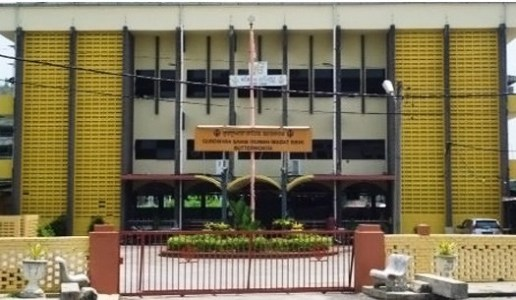Gurdwara: (5, 1, 516, 251)
